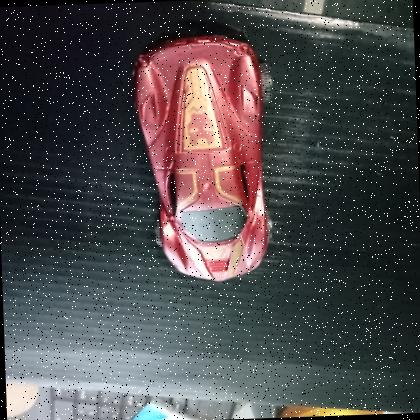Car: (126, 30, 284, 290)
